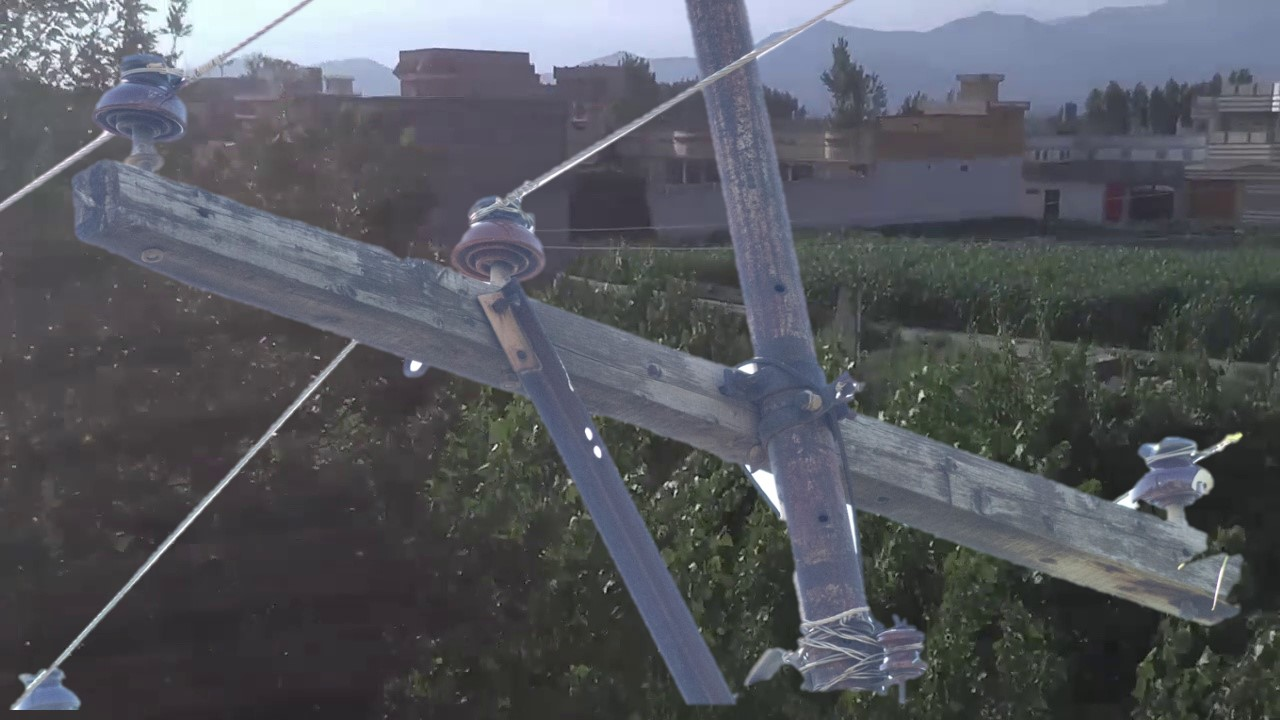defect_pin: (1132, 426, 1221, 512)
insulator_pin: (90, 45, 197, 150), (443, 191, 550, 288)
